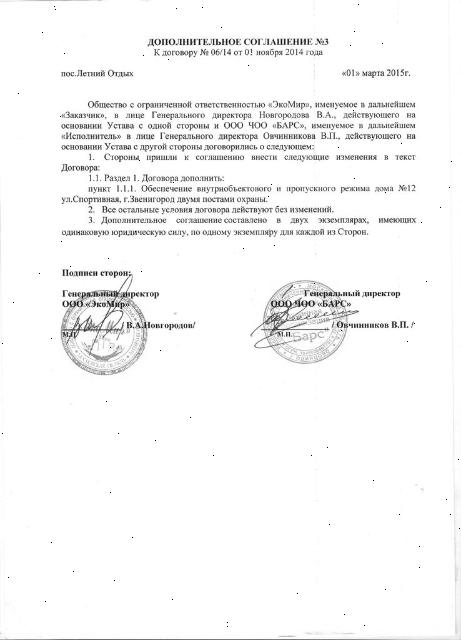stamp: (60, 288, 148, 378), (262, 278, 348, 364)
